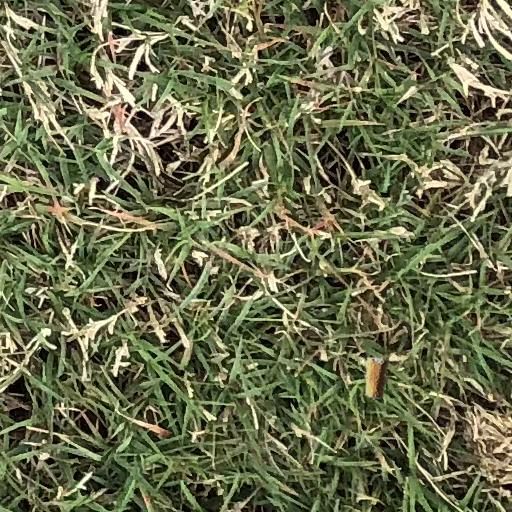smoke: (365, 358, 388, 399)
